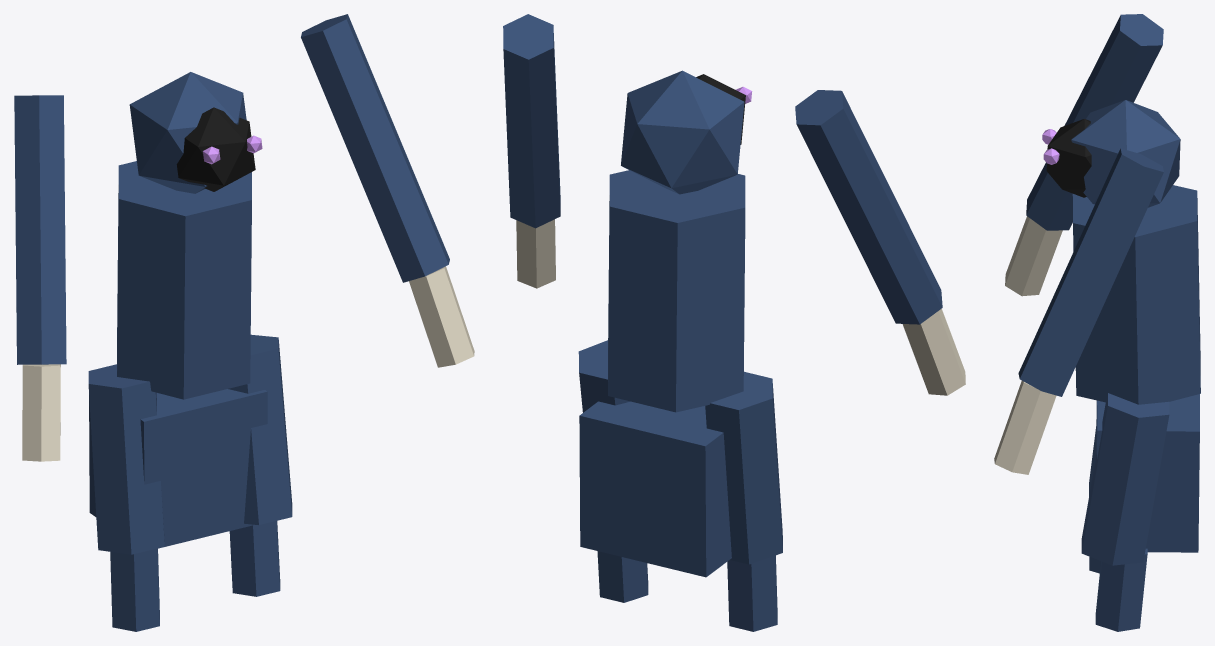
Rendered from npcpose_wraith_idle_11.glb.
3 views of the same model, side by side, from view 1: azimuth 30°, elevation 25°; view 2: azimuth 150°, elevation 25°; view 3: azimuth 270°, elevation 25° (orthographic). The views are drawn at different scales.
Visible parts, largest first — view 1: npcpose; view 2: npcpose; view 3: npcpose.
Part boxes in pixels (x1,y1,x2,y2): npcpose: (14,14,474,631); npcpose: (503,14,965,631); npcpose: (994,14,1200,631).
Bounding box in the file's own units: 0.9388 × 1.1 × 0.4024.
